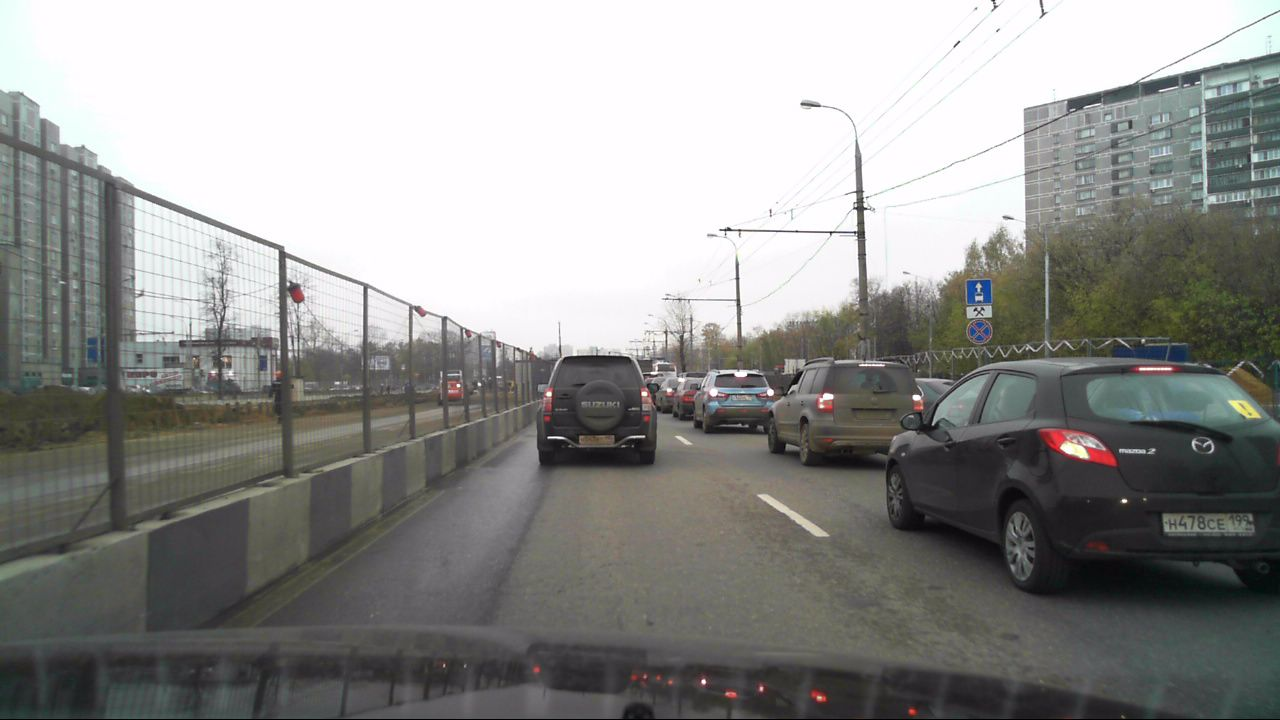No Parking: (966, 319, 993, 344)
